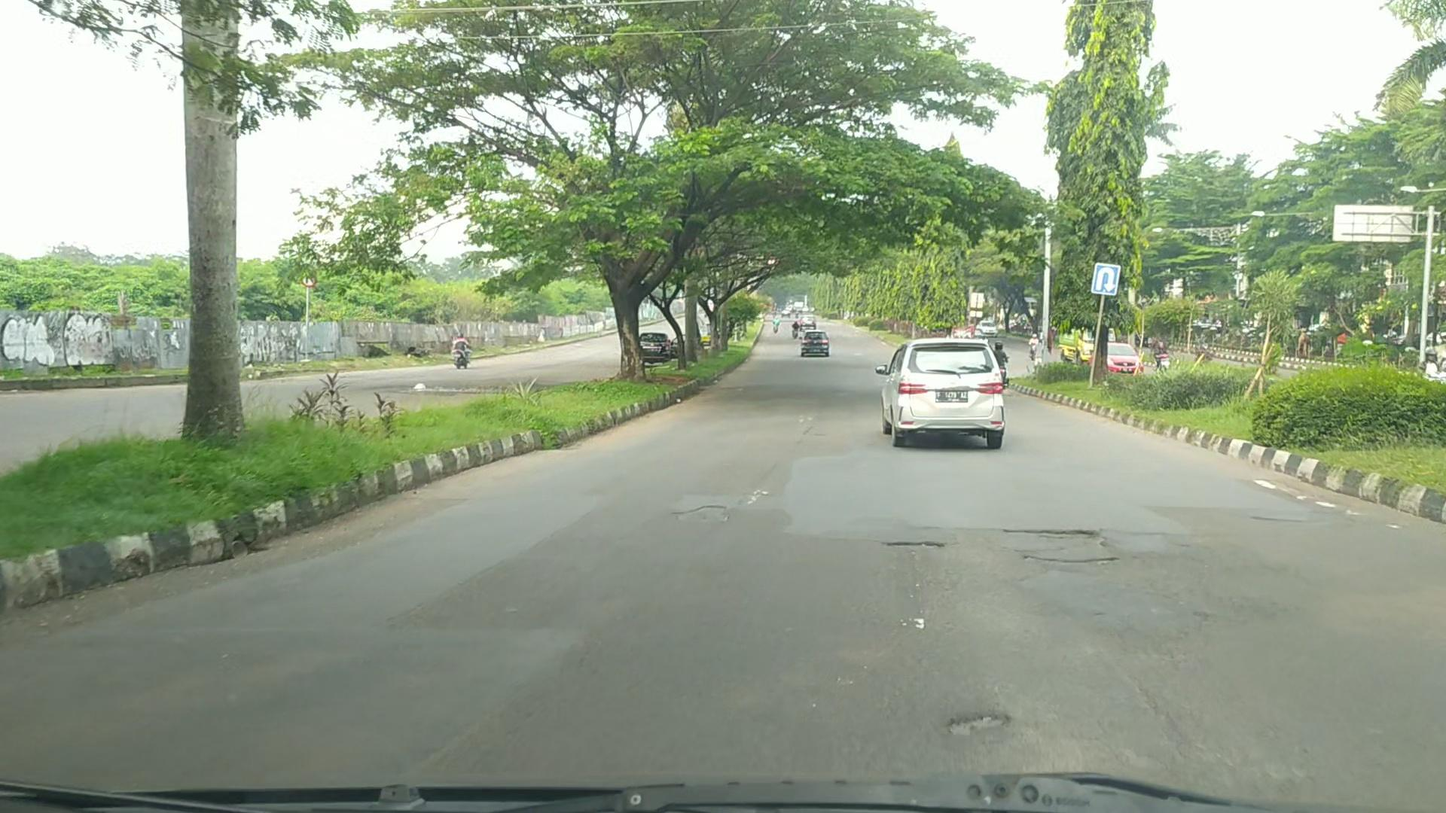pothole: (937, 710, 1007, 740), (1009, 527, 1105, 538), (883, 536, 948, 549)
